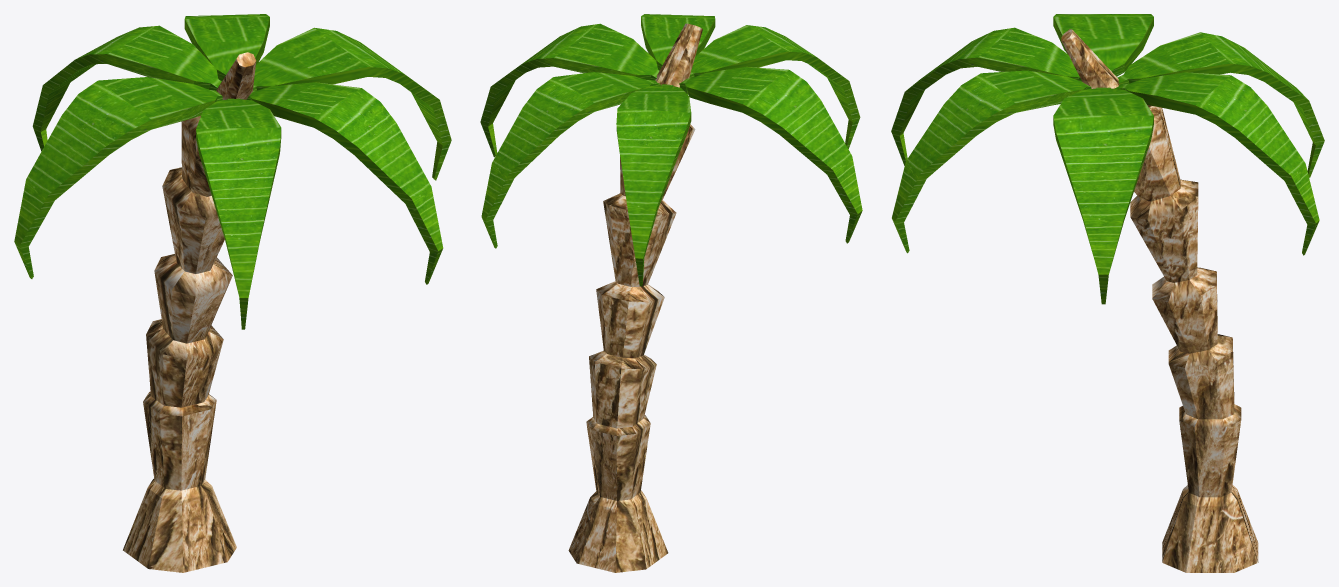
Rendered from PROP_Single_PalmTree.fbx.
3 renders of one model, left to right at view 1: azimuth 30°, elevation 25°; view 2: azimuth 150°, elevation 25°; view 3: azimuth 270°, elevation 25°, orthographic. The views are drawn at different scales.
Visible parts, largest first — view 1: Trunk1; view 2: Trunk1; view 3: Trunk1.
Boxes of the visible parts, x1=… form: Trunk1: x1=14, y1=14, x2=451, y2=572; Trunk1: x1=480, y1=14, x2=862, y2=572; Trunk1: x1=891, y1=14, x2=1324, y2=572.
Size of the model in its own units: 8.62 by 10.52 by 8.
2 materials, 2 textured.
